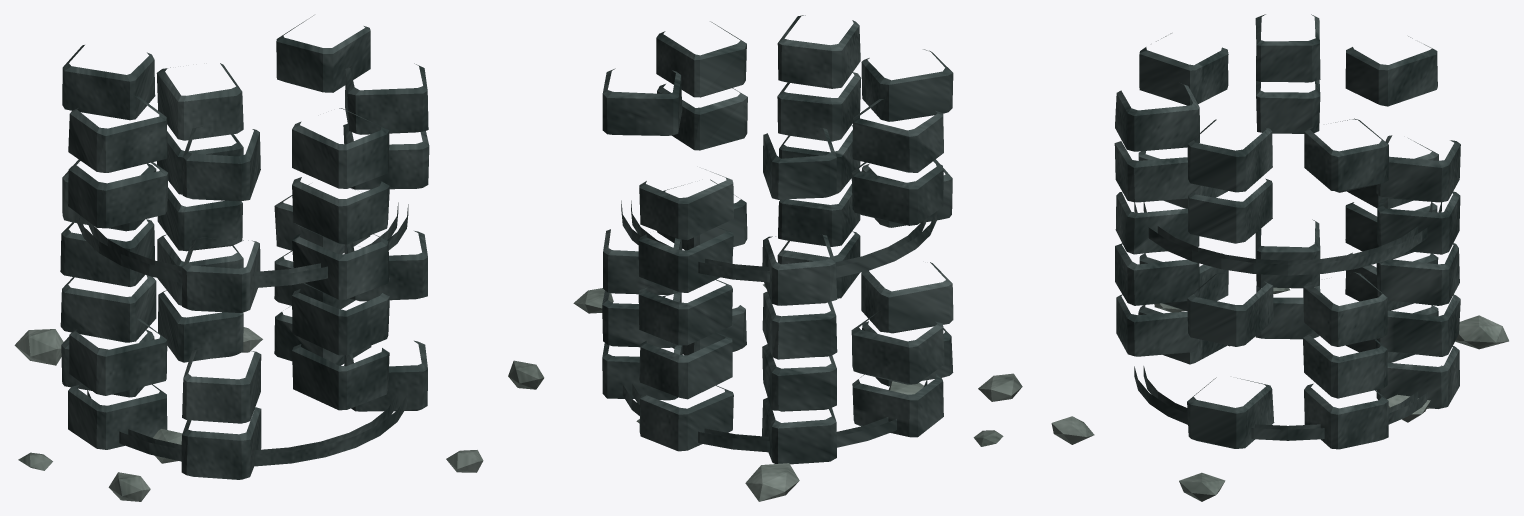
File: 0425_ruined_tower_25.glb
The picture shows the model from 3 angles, left to right: view 1: azimuth 30°, elevation 25°; view 2: azimuth 150°, elevation 25°; view 3: azimuth 270°, elevation 25°; orthographic projection. The views are drawn at different scales.
Parts seen in each view (by area): view 1: stone_dark, stone; view 2: stone_dark, stone; view 3: stone_dark, stone.
Boxes of the visible parts, x1=… form: stone_dark: x1=60, y1=15, x2=429, y2=479; stone: x1=14, y1=327, x2=544, y2=501; stone_dark: x1=602, y1=15, x2=953, y2=464; stone: x1=573, y1=284, x2=1022, y2=501; stone_dark: x1=1114, y1=14, x2=1460, y2=449; stone: x1=1051, y1=287, x2=1508, y2=501.
Bounding box in the file's own units: 3.82 × 2.52 × 3.39.
2 materials, 2 textured.
